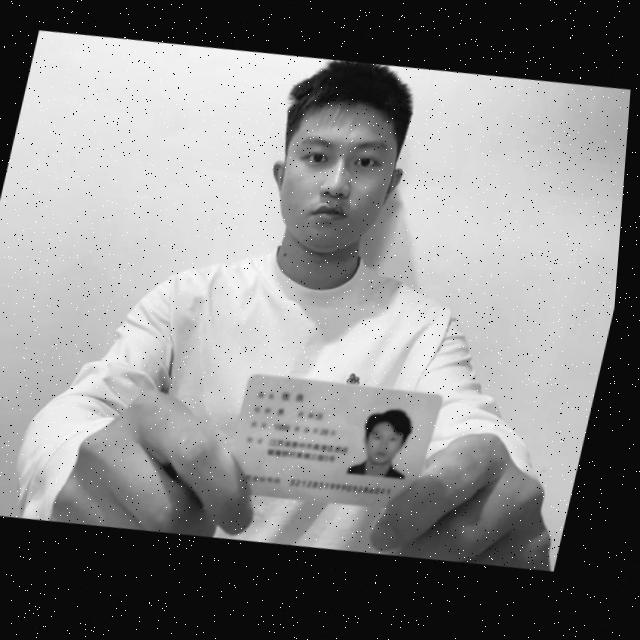card: (232, 375, 441, 507)
